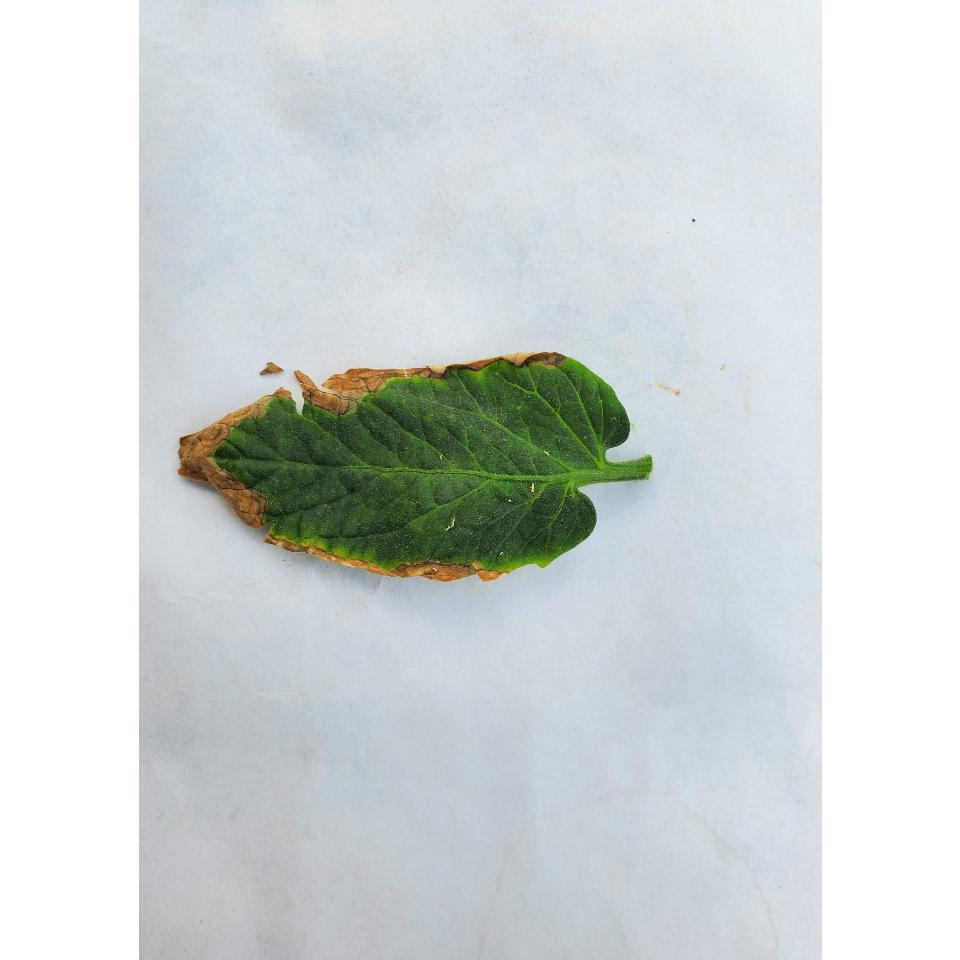tomato_bacterial_blight: (168, 334, 654, 598)
